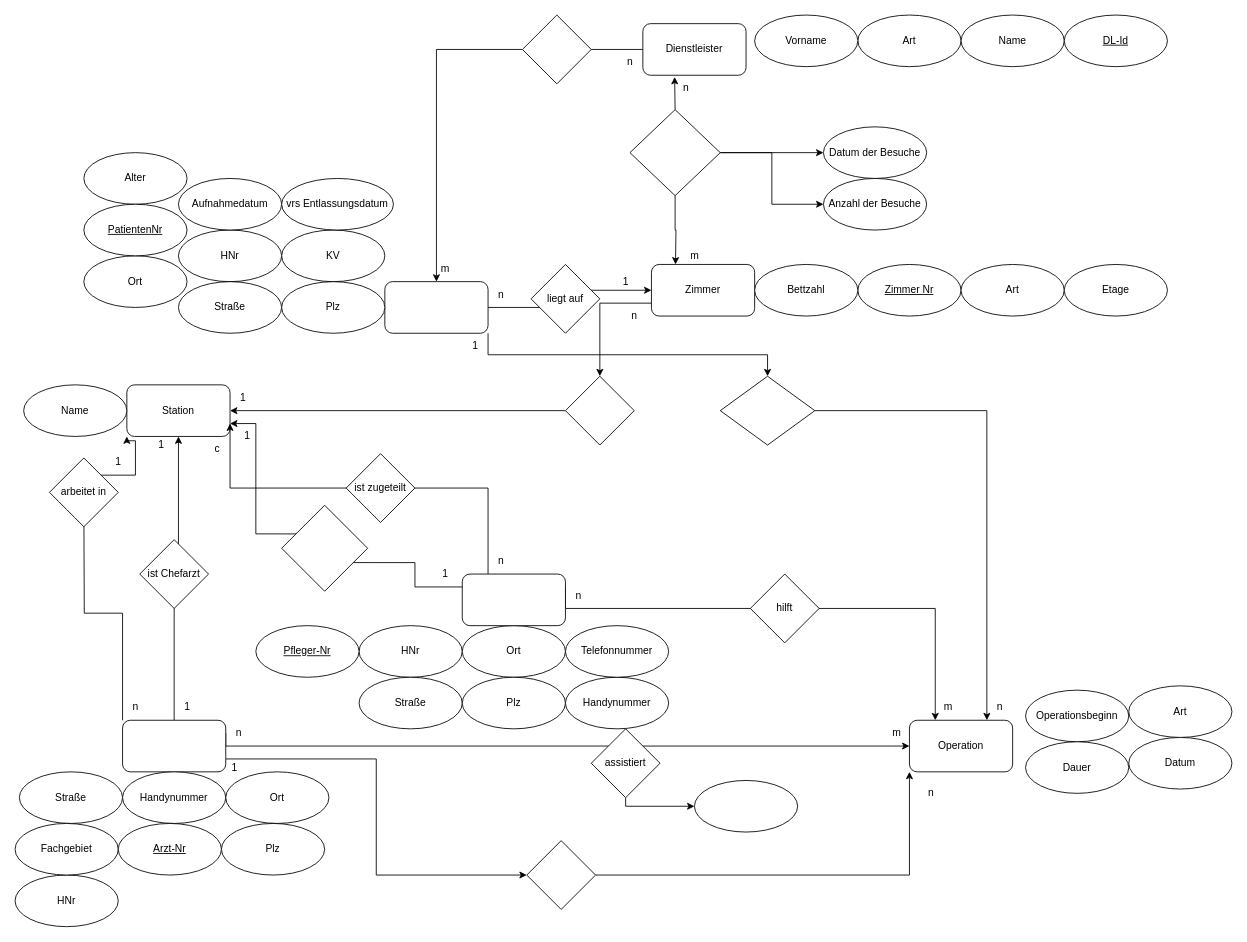
Image size: 1247x942. Some labels were removed from this diagram. The centre of each missing label's shape, as x and y in pixels:
"Arzt" goes at (174,745).
"Aufgabe" goes at (746,806).
"führt durch" goes at (561,874).
"gehört zu" goes at (599,410).
"ist Oberschwester" goes at (324,547).
"ist zuständig für" goes at (674,152).
"Patient" goes at (436,307).
"Pfleger" goes at (513,599).
"versorgt" goes at (556,49).
"wird behandelt" goes at (767,410).
